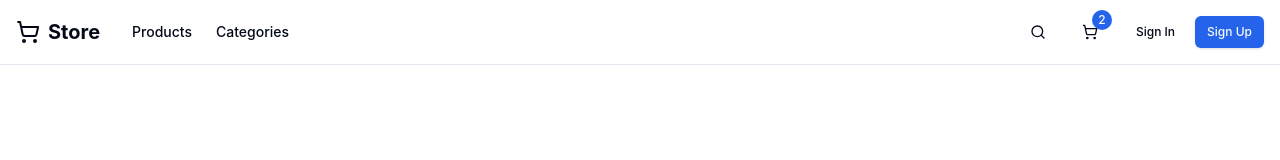
Scenario: Navigation - Search Autocomplete › should display product price and category in results
Click the button named "Search products". click: [1038, 32]
box: [1020,14,1056,50]
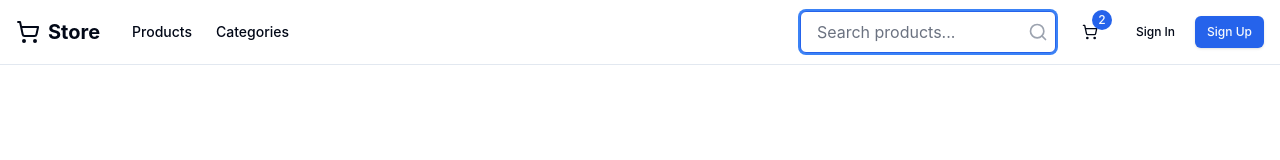
Type "wireless headphones" into the field with test id "search-input". click: [928, 32]
box: [800,11,1056,53]
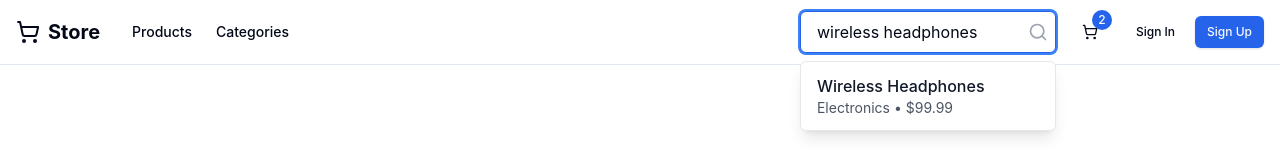
Expected: the text "Wireless Headphones" is shown, [817,76,984,96]
Expected: the text "Electronics • $99.99" is shown, [817,99,953,116]
